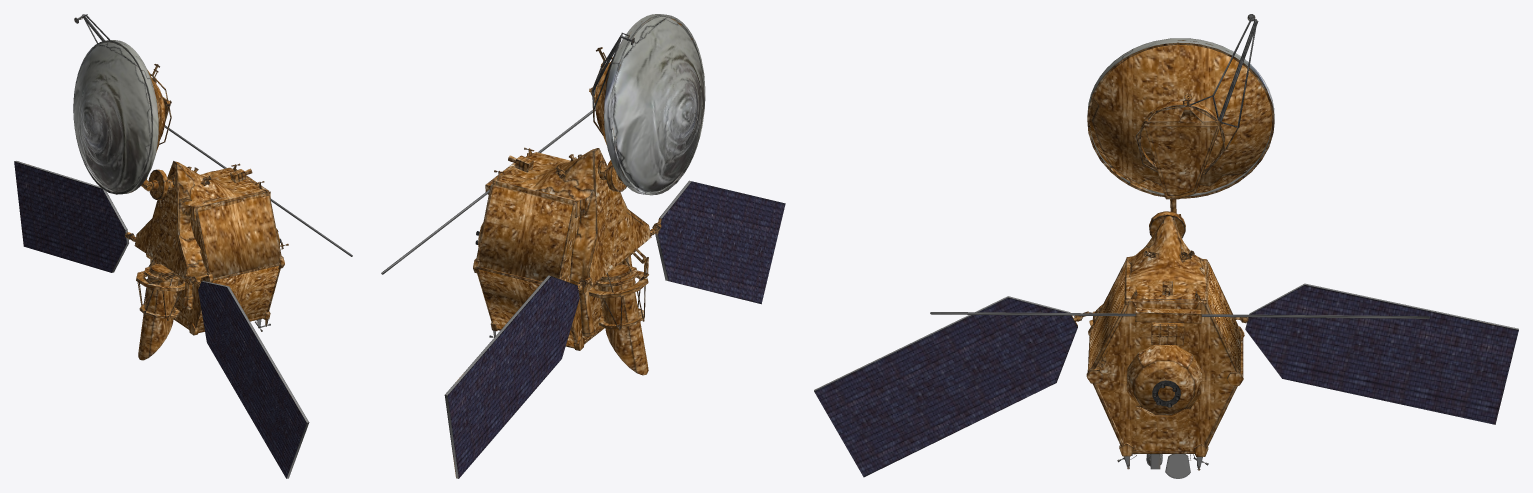
The model's file is nasa_mro.glb.
The picture shows the model from 3 angles, left to right: view 1: azimuth 30°, elevation 25°; view 2: azimuth 150°, elevation 25°; view 3: azimuth 270°, elevation 25°; orthographic projection. The views are drawn at different scales.
Visible parts, largest first — view 1: mro_proxy7, mro_proxy5, mro_proxy3, mro_proxy6, mro_proxy2; view 2: mro_proxy7, mro_proxy5, mro_proxy3, mro_proxy6, mro_proxy2; view 3: mro_proxy7, mro_proxy6, mro_proxy5.
Part boxes in pixels (<box>): mro_proxy7: <box>14,14,352,478</box>; mro_proxy5: <box>134,161,213,335</box>; mro_proxy3: <box>129,173,193,360</box>; mro_proxy6: <box>230,163,284,328</box>; mro_proxy2: <box>137,259,181,320</box>; mro_proxy7: <box>381,14,785,478</box>; mro_proxy5: <box>477,148,660,350</box>; mro_proxy3: <box>581,160,658,375</box>; mro_proxy6: <box>473,147,534,337</box>; mro_proxy2: <box>601,249,648,330</box>; mro_proxy7: <box>814,14,1518,477</box>; mro_proxy6: <box>1086,281,1243,470</box>; mro_proxy5: <box>1082,217,1244,478</box>.
Bounding box in the file's own units: 32.76 × 61.01 × 89.74.
11 materials, 11 textured.
